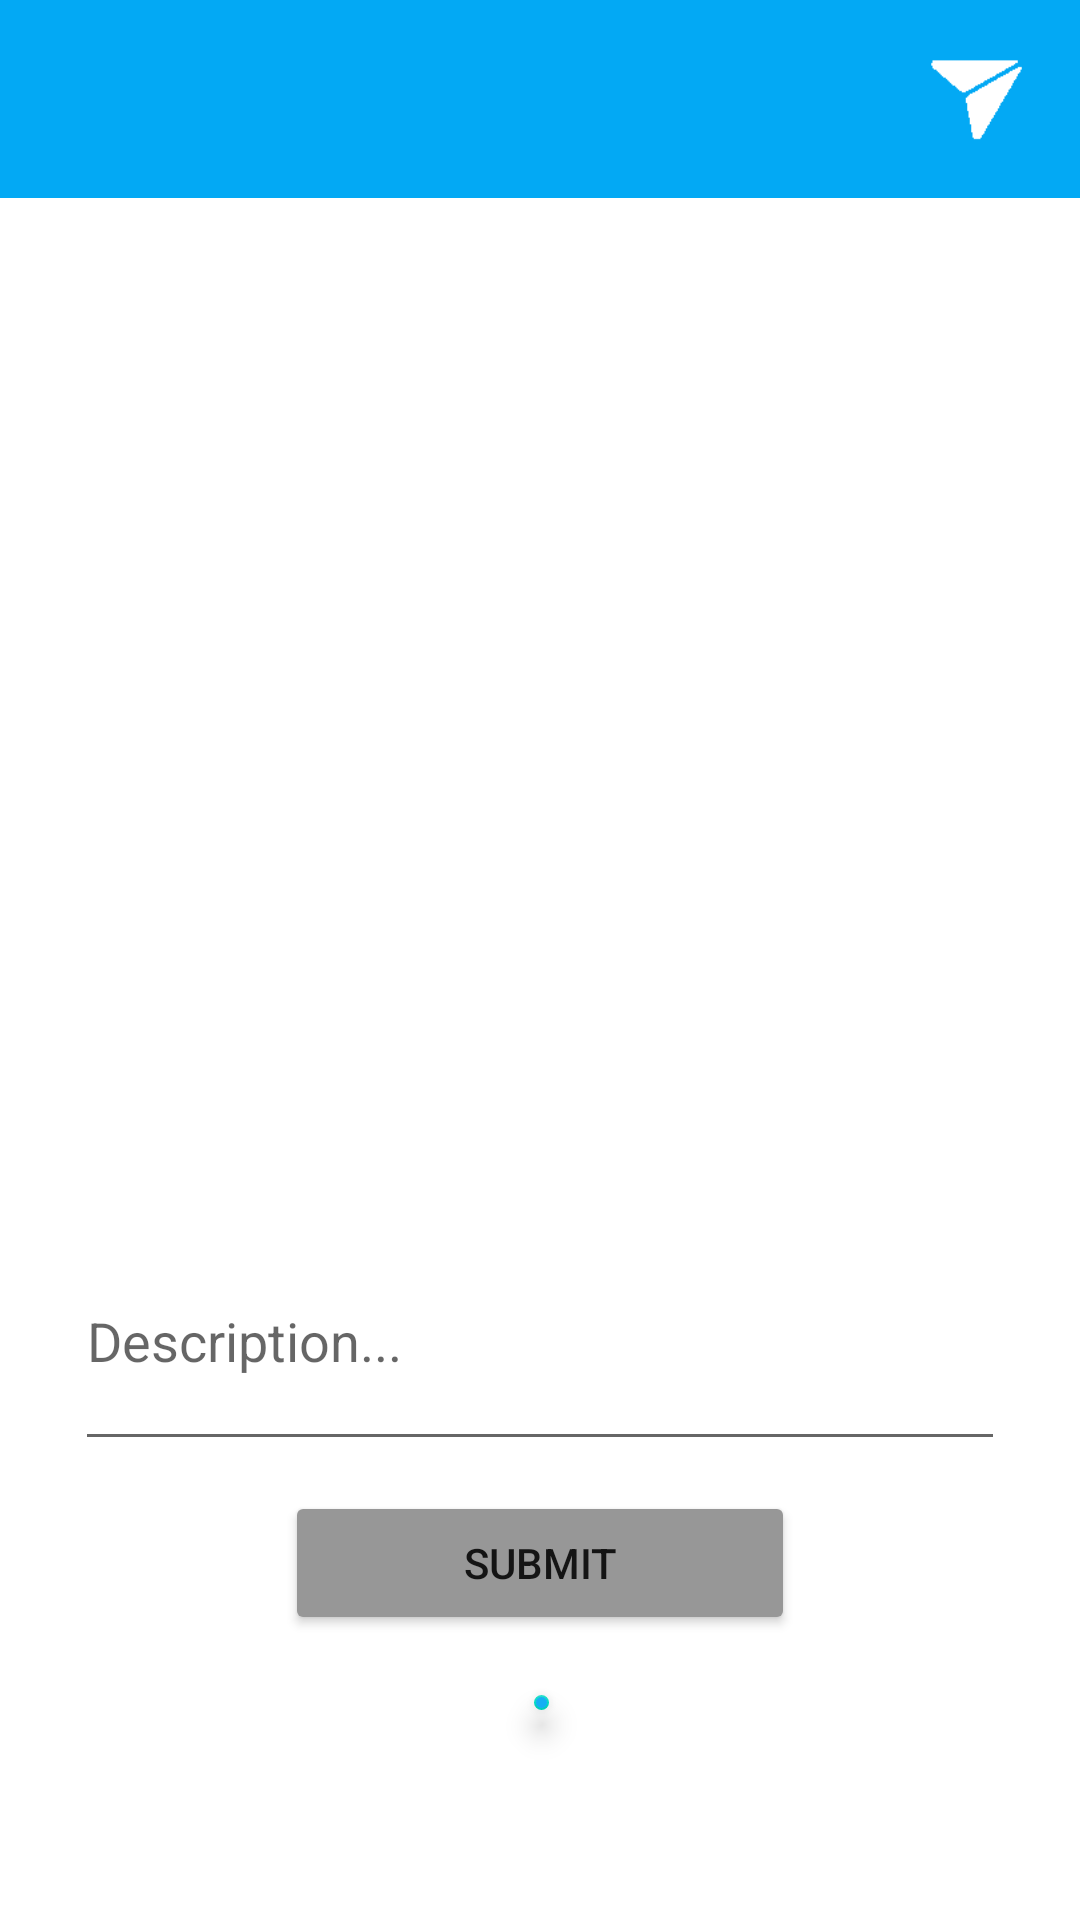

Icon bounding boxes for this 1080w x 1920h phone screenshot, format (x1, y1, x2, y2):
inbox paper plane: (931, 60, 1022, 140)
